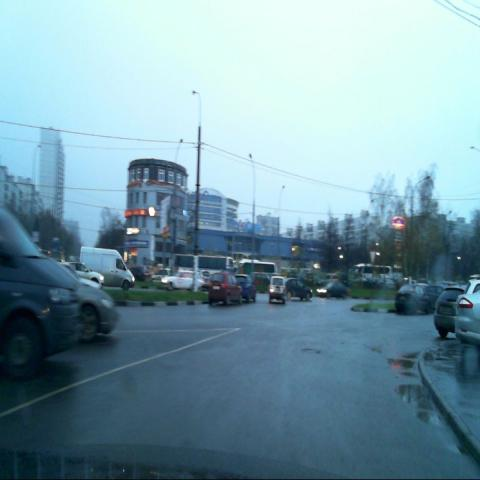2_4: (369, 250, 376, 264)
